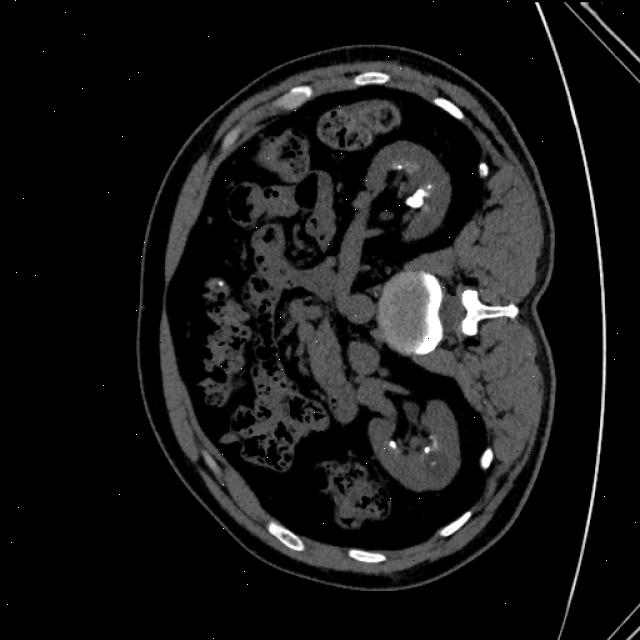kidneystone: (405, 184, 431, 208), (389, 439, 397, 449), (424, 446, 431, 454)
